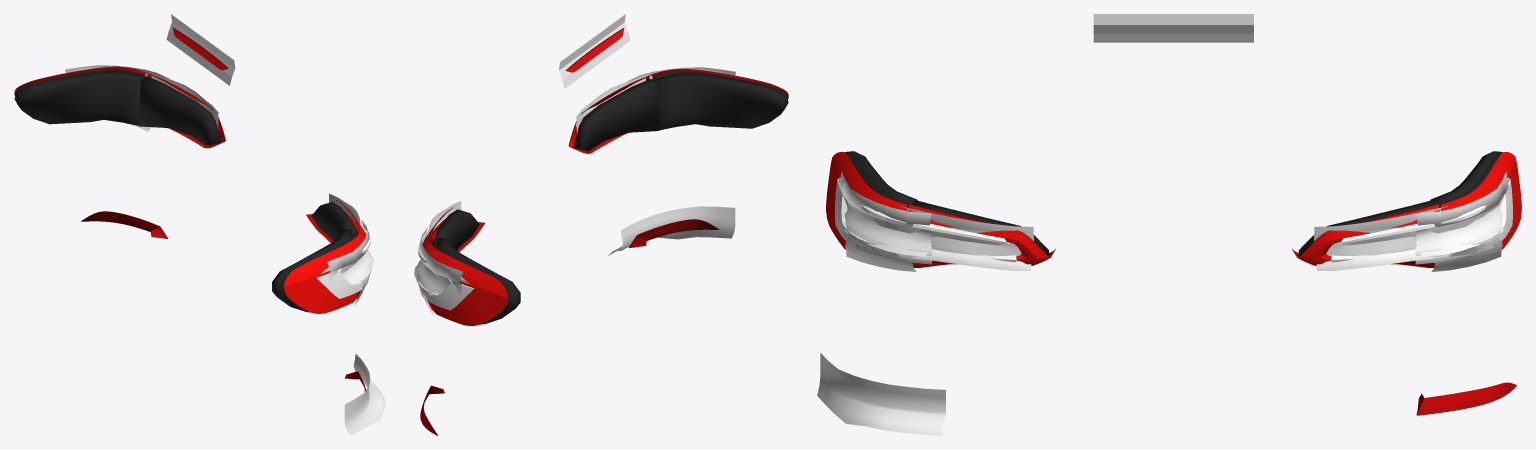
Rendered from O_G05_Taillights.glb.
3 renders of one model, left to right at view 1: azimuth 30°, elevation 25°; view 2: azimuth 150°, elevation 25°; view 3: azimuth 270°, elevation 25°, orthographic. The views are drawn at different scales.
Visible parts, largest first — view 1: 011_Taillights_Outer_Plastic_grained_black, 021_Taillights_Inner_plastic_grained_black, 001_Taillights_Outer_lens_red, 017_Taillights_Inner_BrakeLight_lighteffect, 005_Taillights_Outer_FogLight_lighteffect, 006_Taillights_Outer_BrakeLight_lighteffect, 003_Taillights_Outer_glass_red, 008_Taillights_Outer_DaytimeRunning_lighteffects, 013_Taillights_Inner_lens_red, 015_Taillights_Inner_glass_red; view 2: 011_Taillights_Outer_Plastic_grained_black, 021_Taillights_Inner_plastic_grained_black, 001_Taillights_Outer_lens_red, 005_Taillights_Outer_FogLight_lighteffect, 017_Taillights_Inner_BrakeLight_lighteffect, 006_Taillights_Outer_BrakeLight_lighteffect, 003_Taillights_Outer_glass_red, 008_Taillights_Outer_DaytimeRunning_lighteffects, 013_Taillights_Inner_lens_red, 015_Taillights_Inner_glass_red; view 3: 017_Taillights_Inner_BrakeLight_lighteffect, 006_Taillights_Outer_BrakeLight_lighteffect, 005_Taillights_Outer_FogLight_lighteffect, 001_Taillights_Outer_lens_red, 013_Taillights_Inner_lens_red, 008_Taillights_Outer_DaytimeRunning_lighteffects, 011_Taillights_Outer_Plastic_grained_black, 007_Taillights_Outer_ReversingLight_lighteffect, 019_Indicators_Inner_B_lighteffect_L, 020_Indicators_Inner_B_lighteffect_R, 003_Taillights_Outer_glass_red, 018_Taillights_Inner_DaytimeRunning_lighteffect (+3 smaller).
Part boxes in pixels (x1=…): 011_Taillights_Outer_Plastic_grained_black: x1=14, y1=68, x2=357, y2=312; 021_Taillights_Inner_plastic_grained_black: x1=138, y1=76, x2=354, y2=241; 001_Taillights_Outer_lens_red: x1=14, y1=66, x2=366, y2=313; 017_Taillights_Inner_BrakeLight_lighteffect: x1=145, y1=14, x2=361, y2=228; 005_Taillights_Outer_FogLight_lighteffect: x1=344, y1=354, x2=385, y2=435; 006_Taillights_Outer_BrakeLight_lighteffect: x1=65, y1=65, x2=374, y2=286; 003_Taillights_Outer_glass_red: x1=81, y1=211, x2=366, y2=391; 008_Taillights_Outer_DaytimeRunning_lighteffects: x1=316, y1=234, x2=371, y2=298; 013_Taillights_Inner_lens_red: x1=148, y1=73, x2=364, y2=242; 015_Taillights_Inner_glass_red: x1=172, y1=27, x2=357, y2=232; 011_Taillights_Outer_Plastic_grained_black: x1=431, y1=71, x2=788, y2=324; 021_Taillights_Inner_plastic_grained_black: x1=434, y1=79, x2=659, y2=250; 001_Taillights_Outer_lens_red: x1=422, y1=69, x2=788, y2=326; 005_Taillights_Outer_FogLight_lighteffect: x1=608, y1=206, x2=735, y2=255; 017_Taillights_Inner_BrakeLight_lighteffect: x1=427, y1=14, x2=652, y2=237; 006_Taillights_Outer_BrakeLight_lighteffect: x1=414, y1=67, x2=735, y2=300; 003_Taillights_Outer_glass_red: x1=420, y1=219, x2=719, y2=435; 008_Taillights_Outer_DaytimeRunning_lighteffects: x1=417, y1=244, x2=474, y2=310; 013_Taillights_Inner_lens_red: x1=424, y1=76, x2=649, y2=252; 015_Taillights_Inner_glass_red: x1=431, y1=28, x2=624, y2=240; 017_Taillights_Inner_BrakeLight_lighteffect: x1=900, y1=14, x2=1447, y2=256; 006_Taillights_Outer_BrakeLight_lighteffect: x1=836, y1=171, x2=1511, y2=256; 005_Taillights_Outer_FogLight_lighteffect: x1=817, y1=353, x2=945, y2=435; 001_Taillights_Outer_lens_red: x1=826, y1=152, x2=1521, y2=249; 013_Taillights_Inner_lens_red: x1=908, y1=204, x2=1439, y2=267; 008_Taillights_Outer_DaytimeRunning_lighteffects: x1=835, y1=177, x2=1512, y2=256; 011_Taillights_Outer_Plastic_grained_black: x1=845, y1=151, x2=1502, y2=207; 007_Taillights_Outer_ReversingLight_lighteffect: x1=845, y1=239, x2=1502, y2=271; 019_Indicators_Inner_B_lighteffect_L: x1=900, y1=227, x2=1033, y2=270; 020_Indicators_Inner_B_lighteffect_R: x1=1313, y1=227, x2=1447, y2=270; 003_Taillights_Outer_glass_red: x1=1416, y1=382, x2=1516, y2=415; 018_Taillights_Inner_DaytimeRunning_lighteffect: x1=912, y1=223, x2=1435, y2=262.
Bounding box in the file's own units: 50.74 × 107 × 180.
